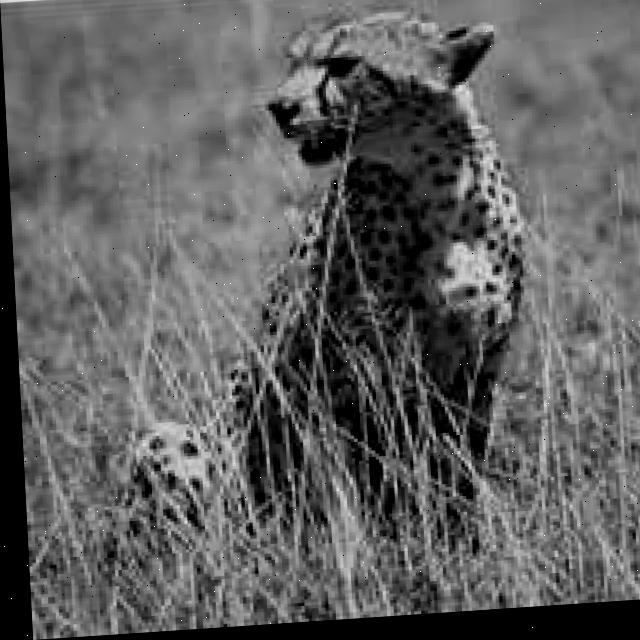Leopard: (121, 0, 564, 499)
